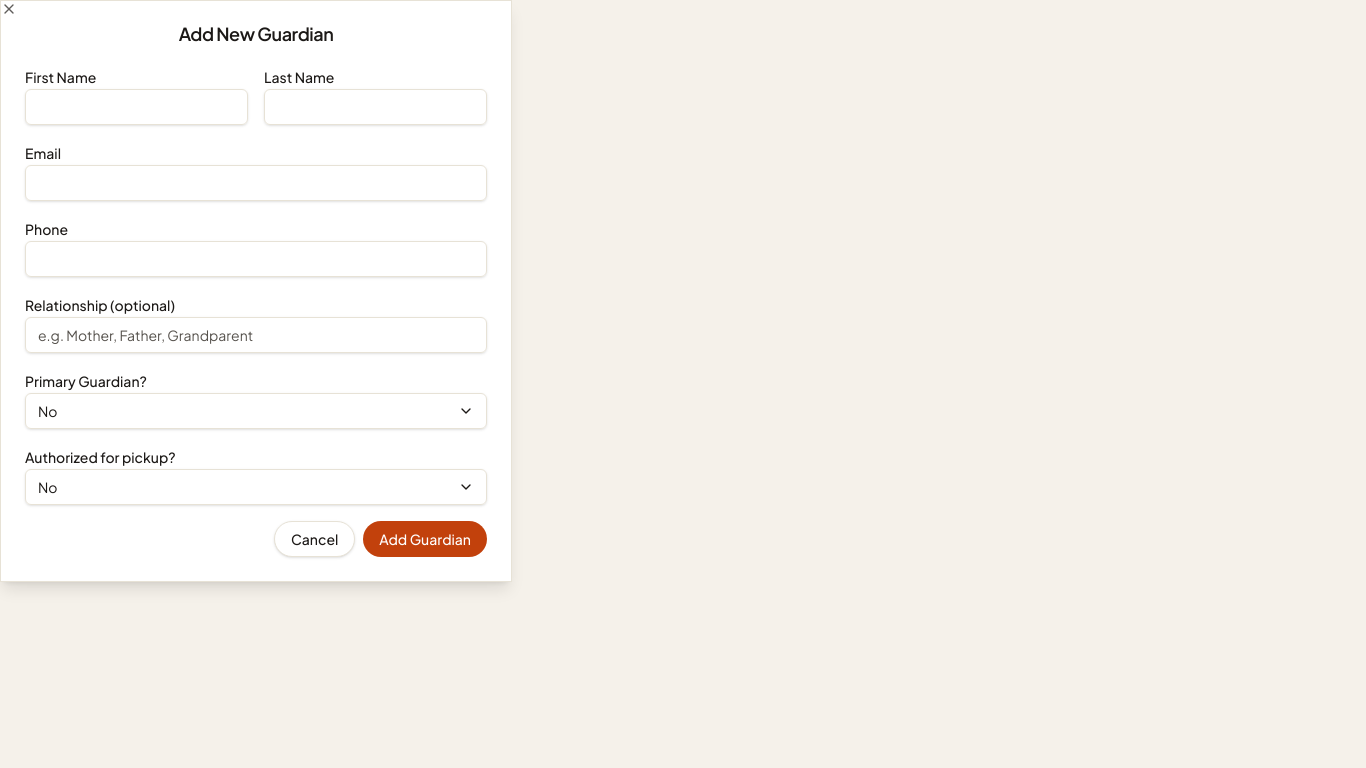
Test case: ChildProfilePage › shows an inline error and keeps add guardian dialog open when create or link fails
Type "Jordan" into the field labelled "First Name" at (136, 107), box [25,89,248,125]
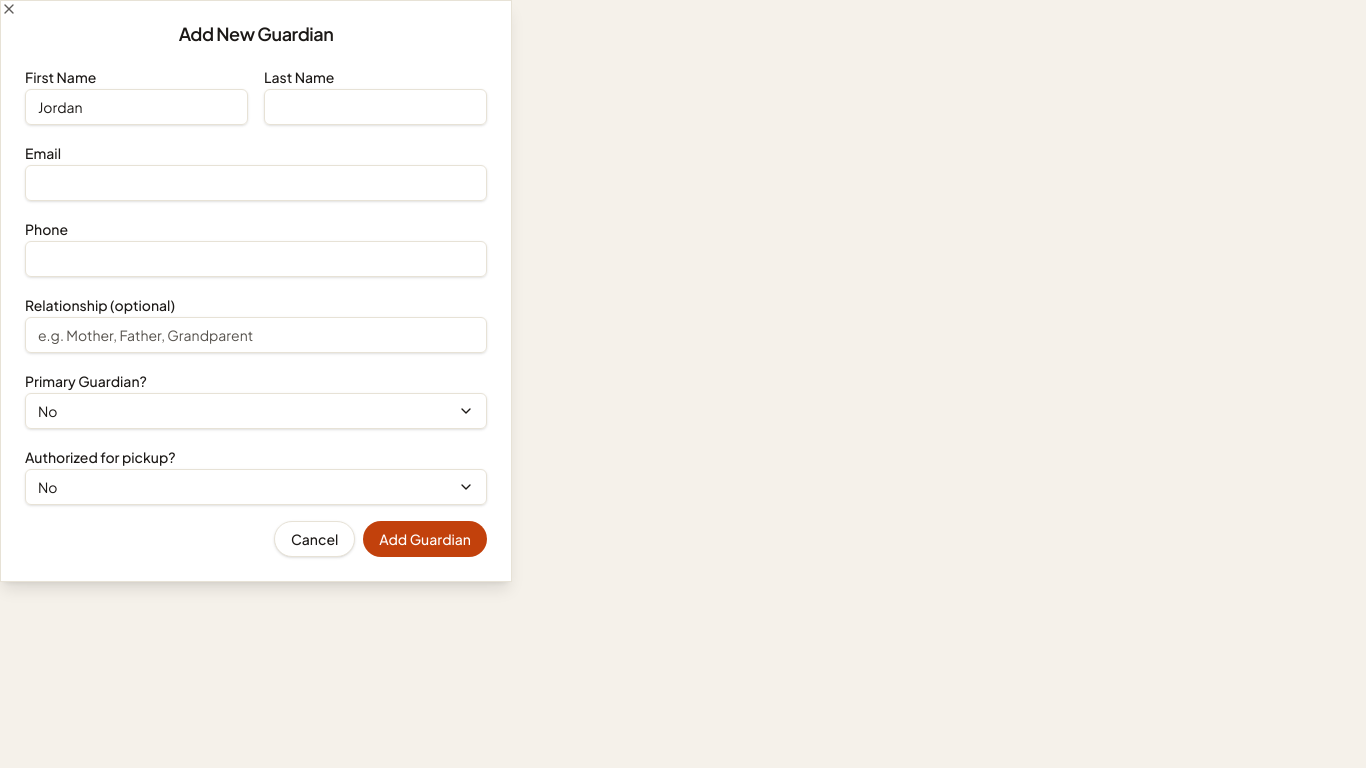
Type "Lee" into the field labelled "Last Name" at (376, 107), box [264,89,487,125]
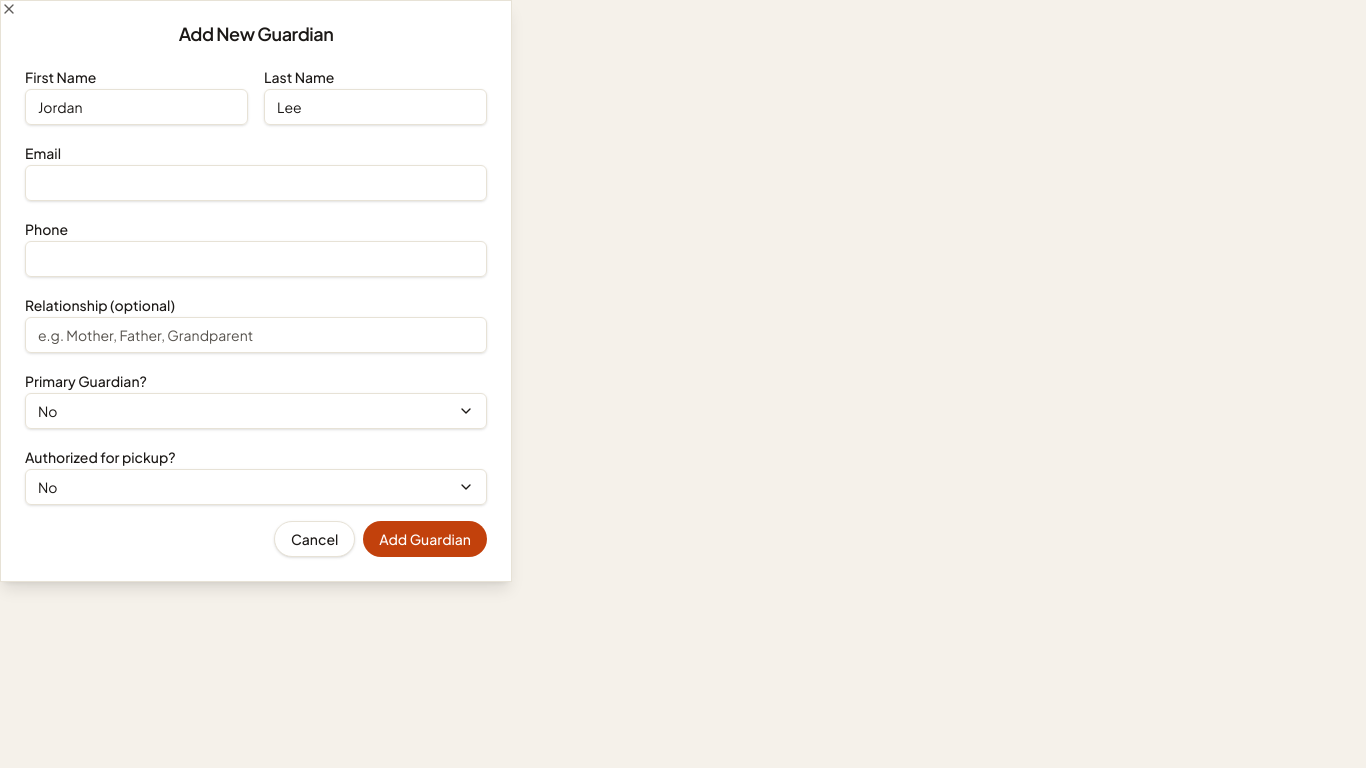
Click the button "Add Guardian" at (425, 539), box [363,521,487,557]
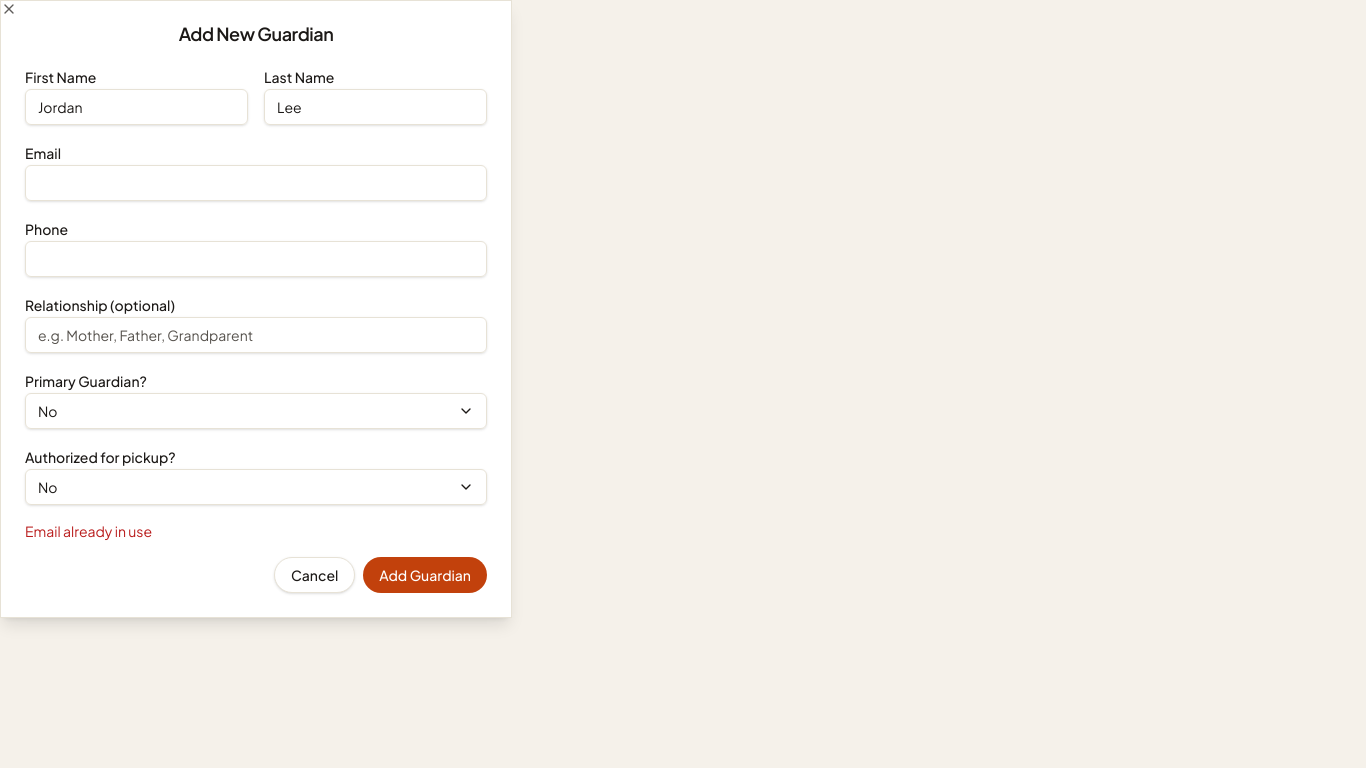
Check: the heading "Add New Guardian" is shown, box [179,22,333,45]
Check: the message reads "Email already in use", box [25,522,152,540]
